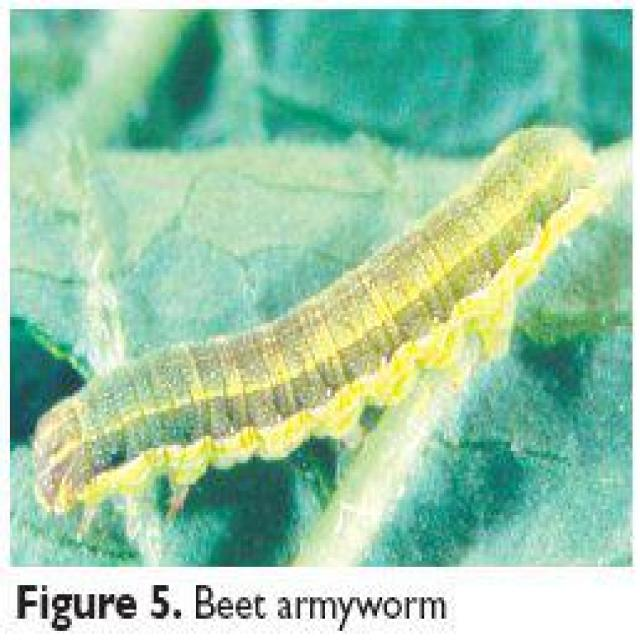BeetArmyWorm-Larva-: (33, 118, 608, 517)
